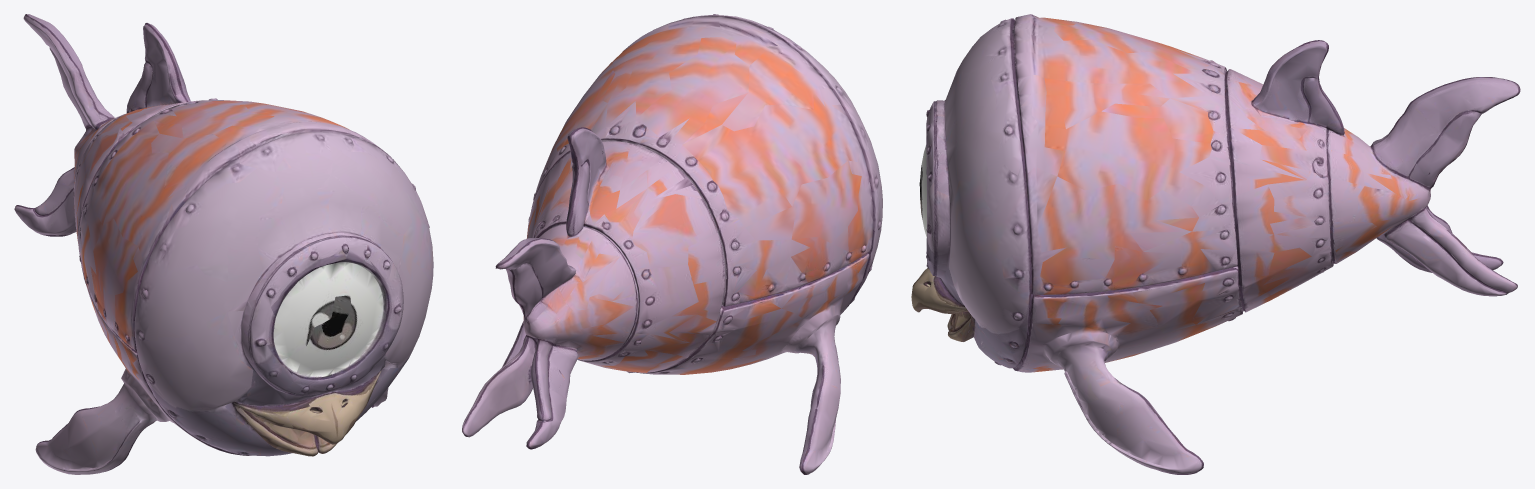
3 renders of one model, left to right at view 1: azimuth 30°, elevation 25°; view 2: azimuth 150°, elevation 25°; view 3: azimuth 270°, elevation 25°, orthographic.
Parts seen in each view (by area): view 1: Mesh_0; view 2: Mesh_0; view 3: Mesh_0.
Part boxes in pixels (bbox=[...]): Mesh_0: bbox=[14, 14, 433, 474]; Mesh_0: bbox=[462, 14, 882, 474]; Mesh_0: bbox=[911, 14, 1520, 474].
Bounding box in the file's own units: 1.18 × 1.27 × 1.9.
1 material, 1 textured.
